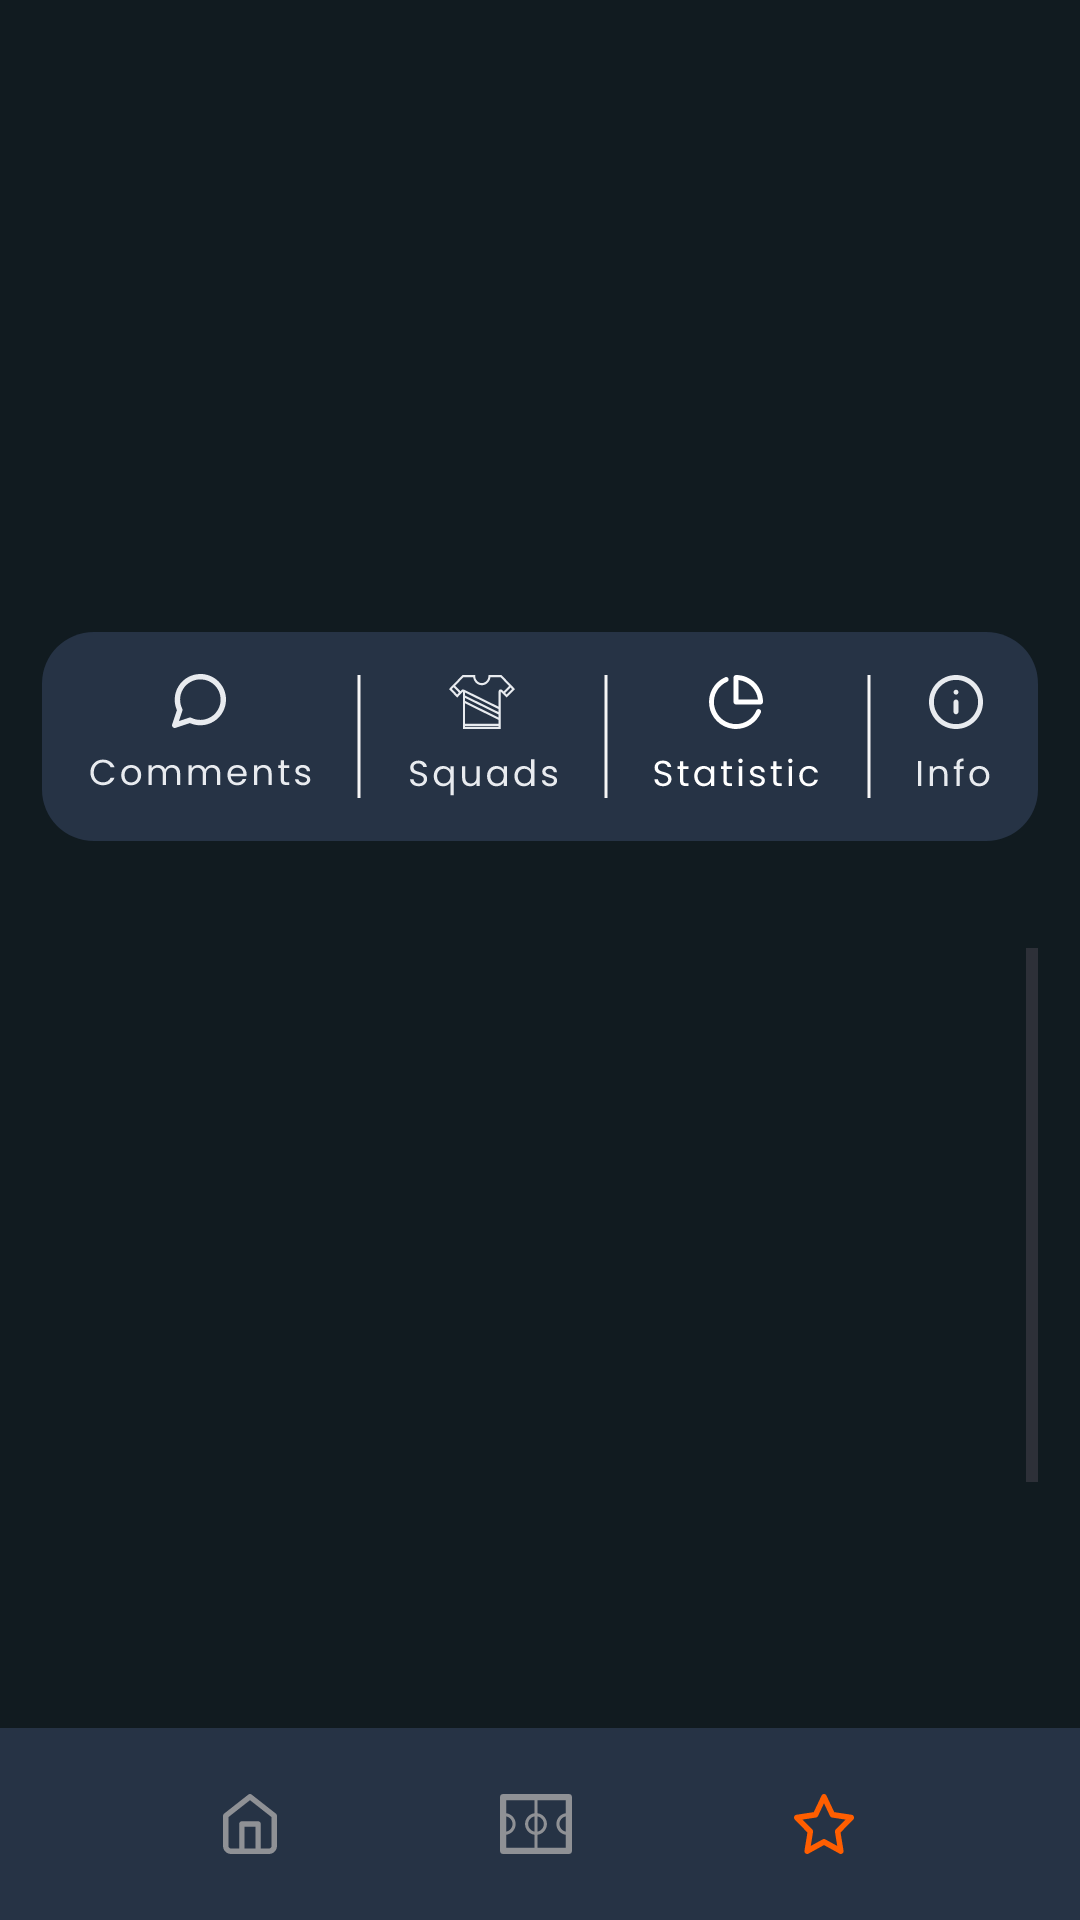

Point at icon controls on the screen. Image size 1080px×1920px, points as point (x, y).
football: point (536, 1824)
home: point (250, 1824)
start yes: point (824, 1824)
